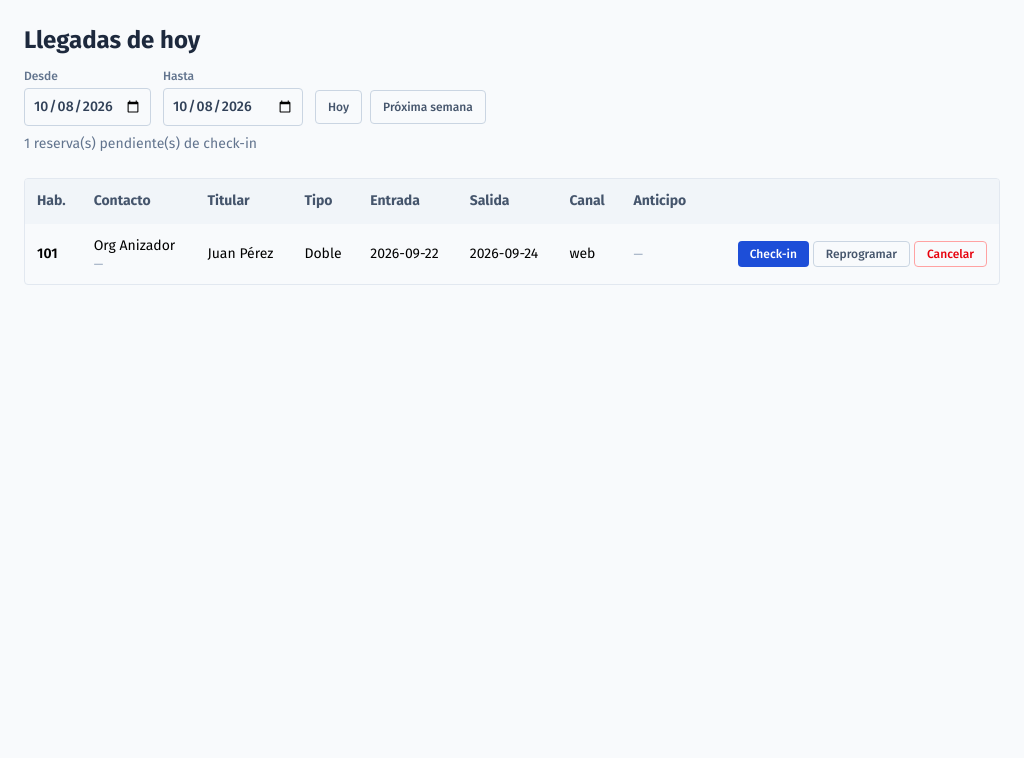
Test case: ArrivalsList — check-in de reserva institucional precarga la cuenta › precarga y bloquea agencia/empresa y canal cuando la reserva tiene cuenta por cobrar
Expected: the text "101" is shown, x1=25 y1=224 x2=82 y2=284
Click the button "Check-in" at (773, 254), box x1=738 y1=241 x2=809 y2=267
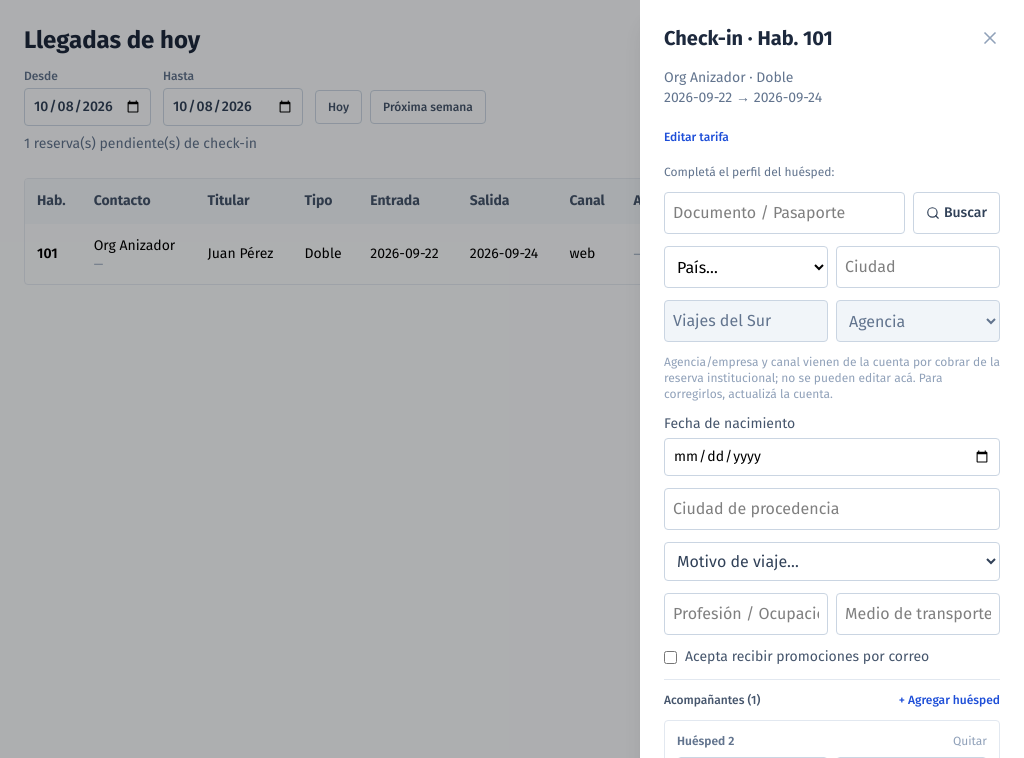
Result: the field with placeholder "Agencia / empresa (opcional)" holds "Viajes del Sur" at x1=664 y1=300 x2=828 y2=342
Result: the field with placeholder "Agencia / empresa (opcional)" is disabled at x1=664 y1=300 x2=828 y2=342
Result: the 2nd dropdown showing "Agencia" is disabled at x1=836 y1=300 x2=1000 y2=342
